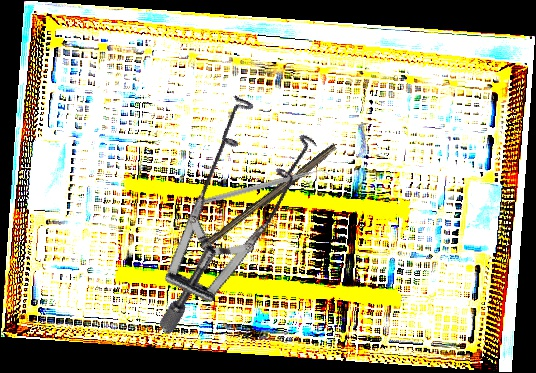Chopper: (192, 164, 334, 215)
Scalpel Handle: (199, 141, 339, 255)
Speculum: (80, 72, 362, 336)
